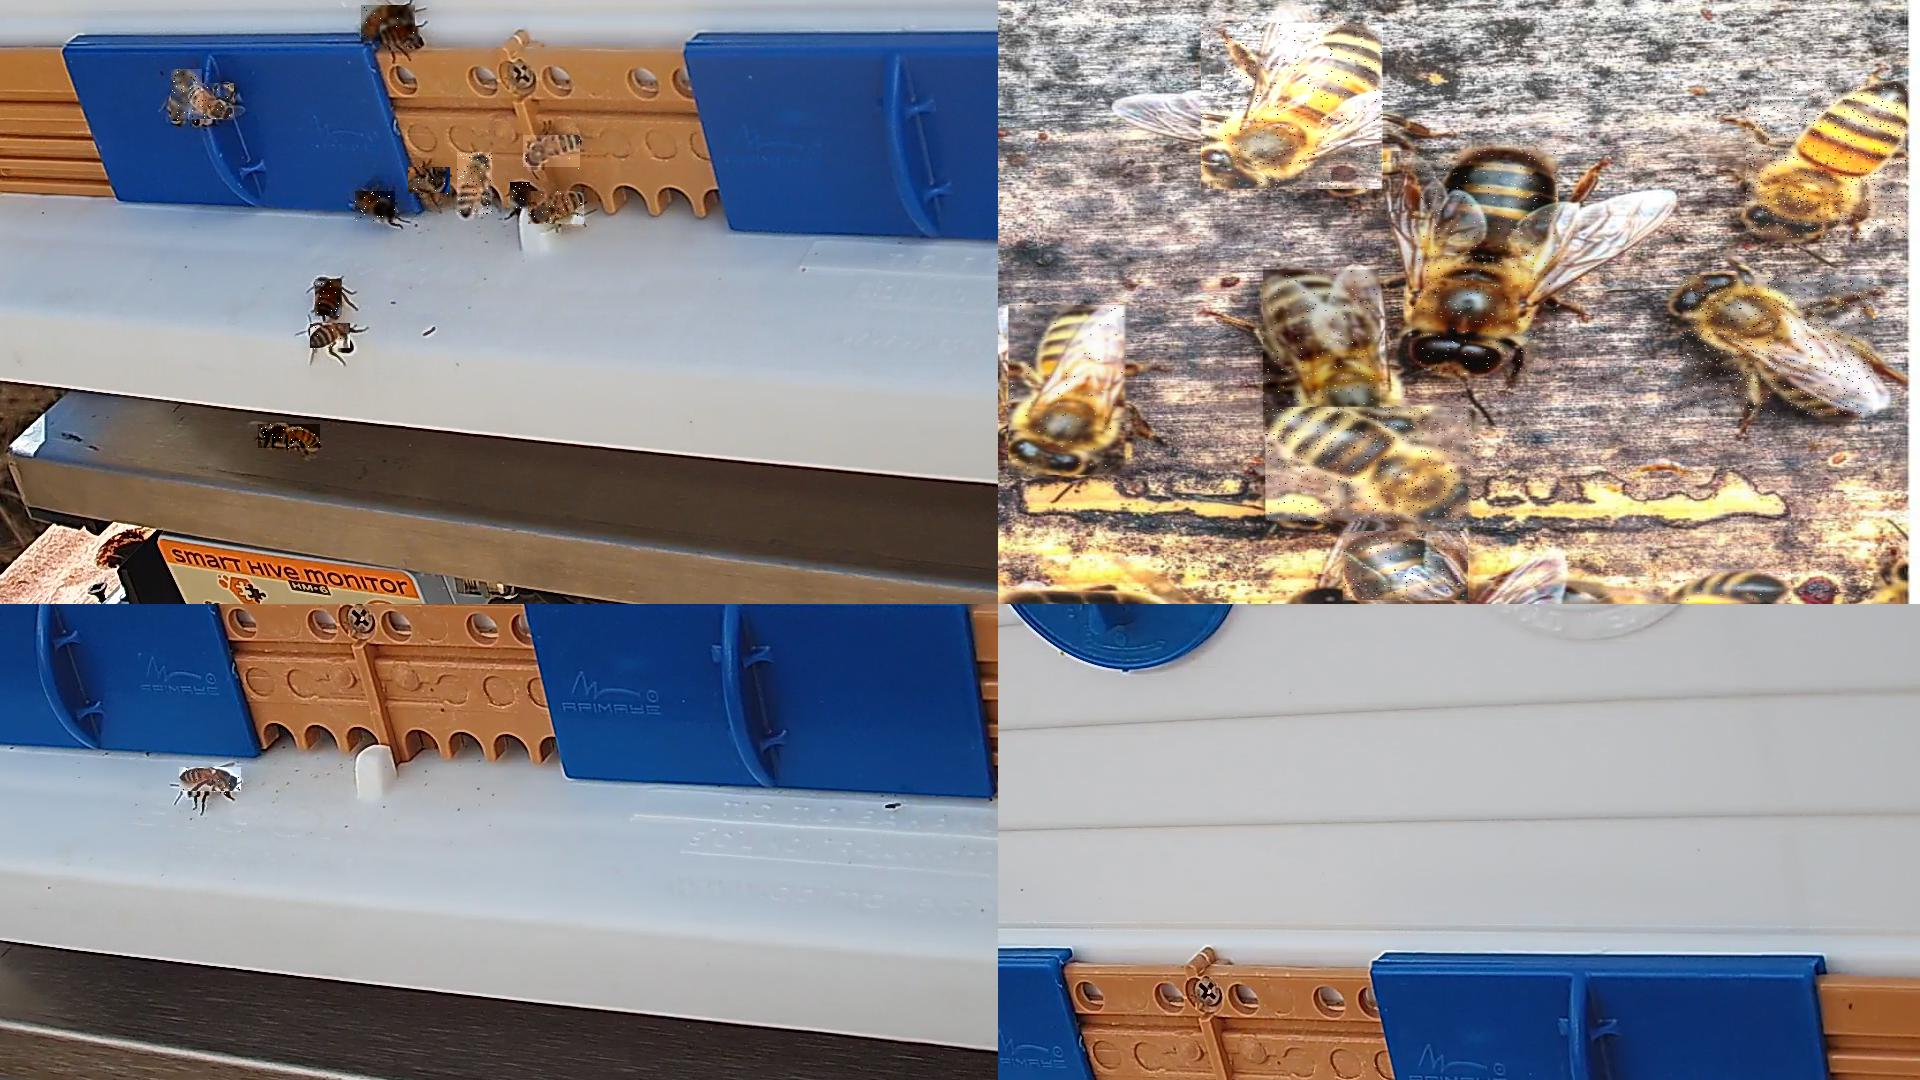bee: (1201, 22, 1387, 190), (1683, 276, 1874, 415), (1746, 82, 1907, 239), (1267, 407, 1476, 522), (1010, 305, 1130, 476), (1263, 269, 1381, 434), (1668, 570, 1792, 604), (458, 152, 493, 215), (361, 5, 417, 44), (524, 136, 582, 170), (527, 191, 585, 225), (179, 767, 243, 796), (189, 84, 235, 124), (171, 70, 203, 121), (258, 425, 322, 450), (355, 191, 396, 223), (409, 167, 451, 198), (310, 323, 351, 352), (315, 280, 343, 316), (381, 28, 423, 49), (510, 183, 531, 212)
drone: (1412, 149, 1559, 375), (1344, 531, 1473, 604)
